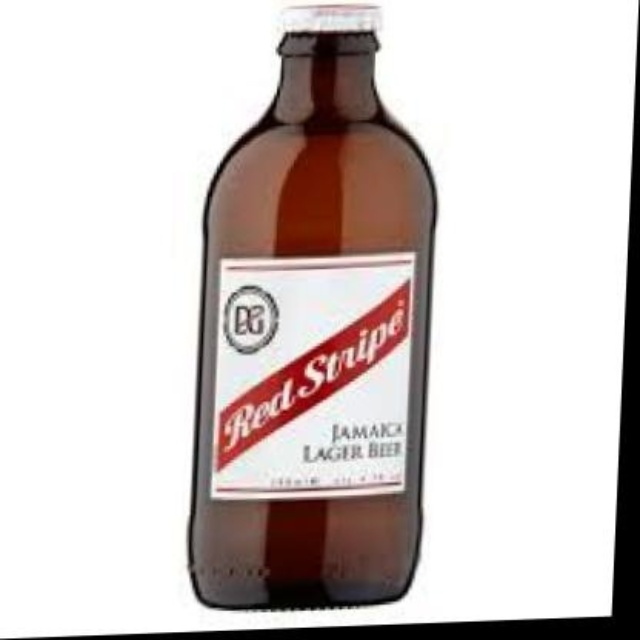trash: (189, 6, 434, 608)
